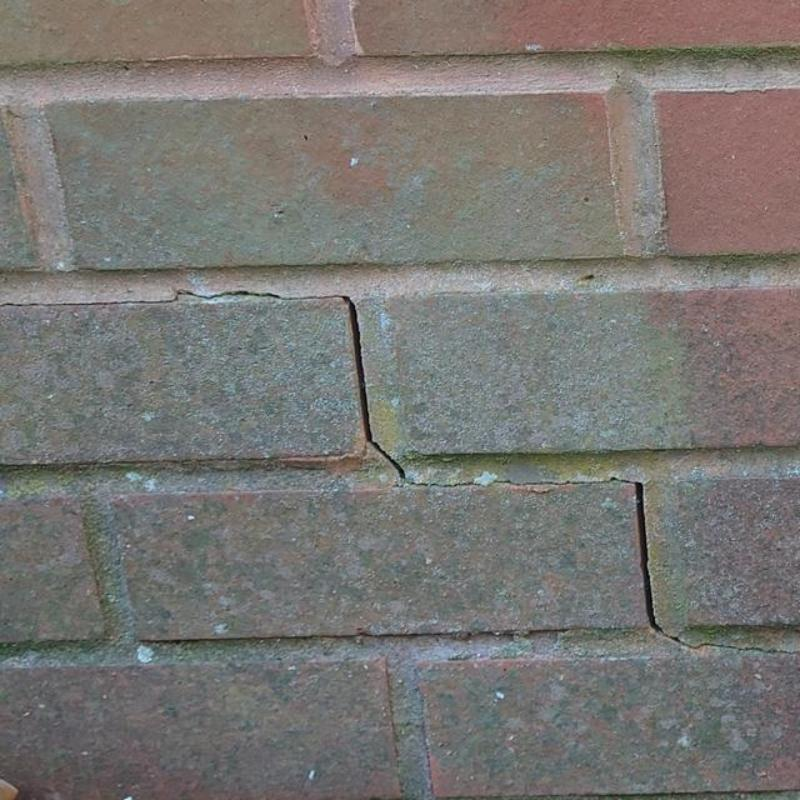pothole: (413, 477, 799, 655), (174, 289, 405, 479), (0, 296, 178, 308)
